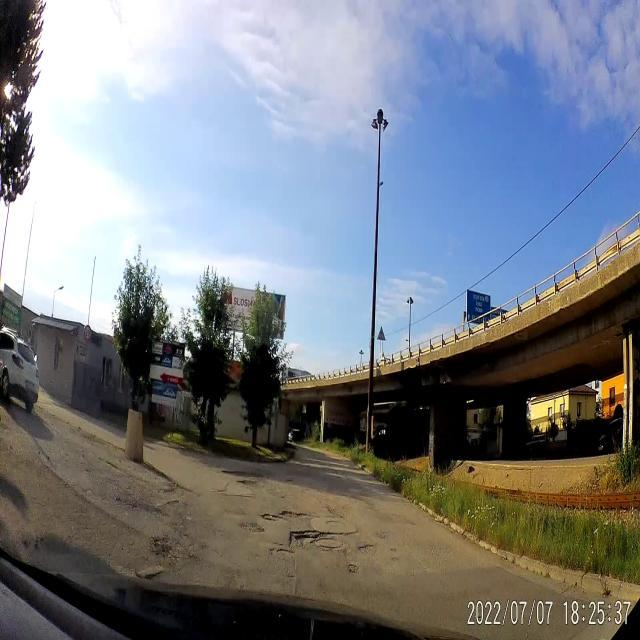Manhole: (239, 519, 267, 537), (320, 518, 348, 534), (314, 536, 342, 550)
Pothole: (288, 528, 324, 552), (262, 508, 308, 524)
